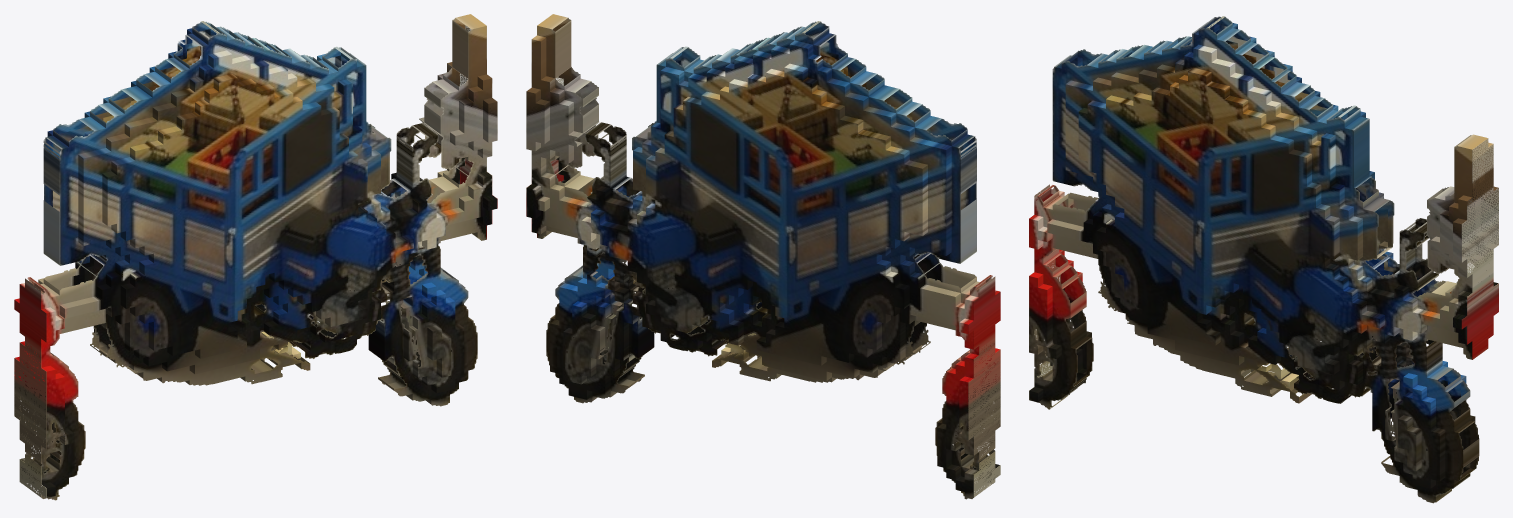
Rendered from veh_3.glb.
The picture shows the model from 3 angles, left to right: view 1: azimuth 30°, elevation 25°; view 2: azimuth 150°, elevation 25°; view 3: azimuth 330°, elevation 25°; orthographic projection.
Visible parts, largest first — view 1: veh_3; view 2: veh_3; view 3: veh_3.
Part boxes in pixels (x1,y1,x2,y2): veh_3: [14, 14, 497, 500]; veh_3: [526, 14, 1000, 499]; veh_3: [1029, 16, 1498, 503].
Bounding box in the file's own units: 48 × 44 × 7.
1 material, 1 textured.
